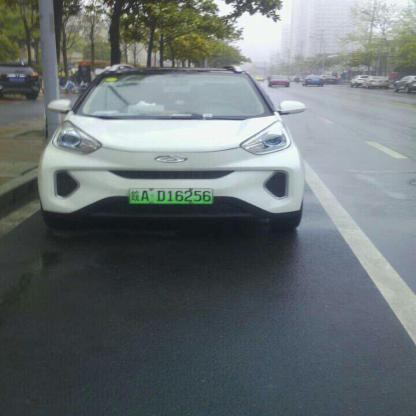lp: (129, 186, 214, 204)
